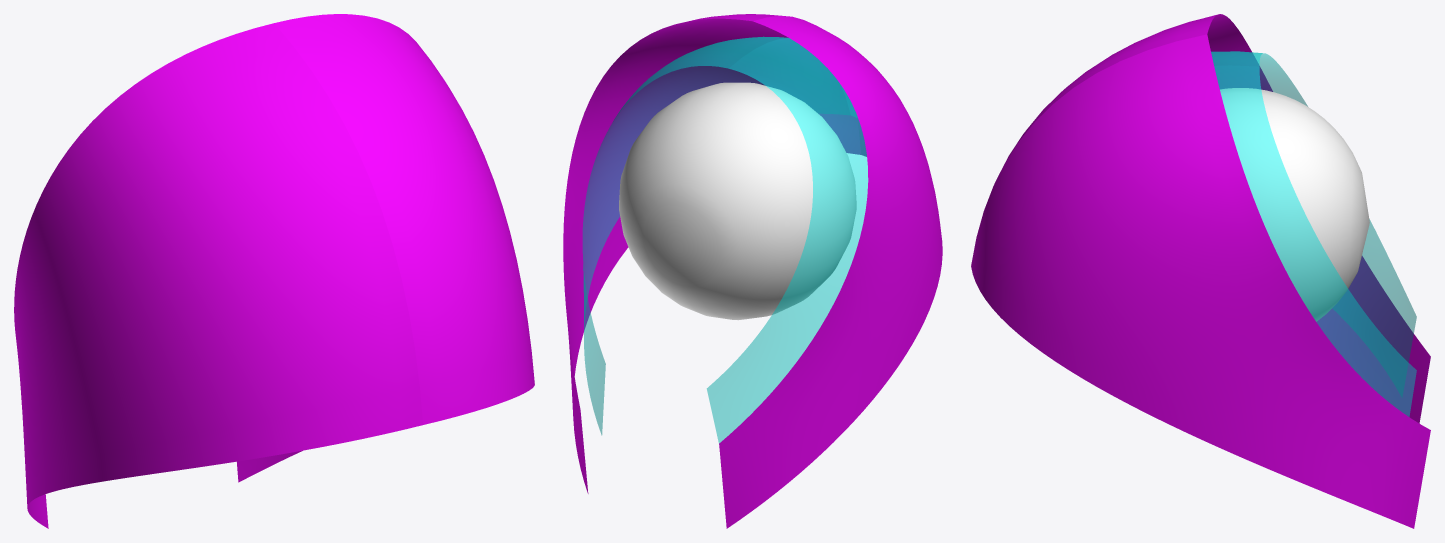
The model's file is webuild-player.glb.
The picture shows the model from 3 angles, left to right: view 1: azimuth 30°, elevation 25°; view 2: azimuth 150°, elevation 25°; view 3: azimuth 270°, elevation 25°; orthographic projection. The views are drawn at different scales.
Visible parts, largest first — view 1: object_3; view 2: object_3, object_1, object_2; view 3: object_3, object_2, object_1.
Boxes of the visible parts, x1,y1,x2,y2 form: object_3: (14,14,534,528); object_3: (563,14,942,528); object_1: (619,82,856,320); object_2: (582,36,868,443); object_3: (971,14,1430,528); object_2: (1211,51,1416,416); object_1: (1220,88,1369,321).
Bounding box in the file's own units: 23.38 × 31.14 × 28.34.
